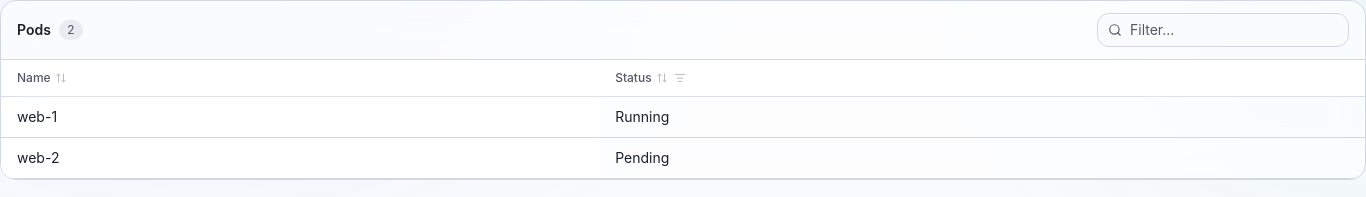
Test: DataTable › facet filter › toggling the same facet value off restores the row
Click the button titled "Filter column". click: (680, 78)
box: [672,70,688,86]
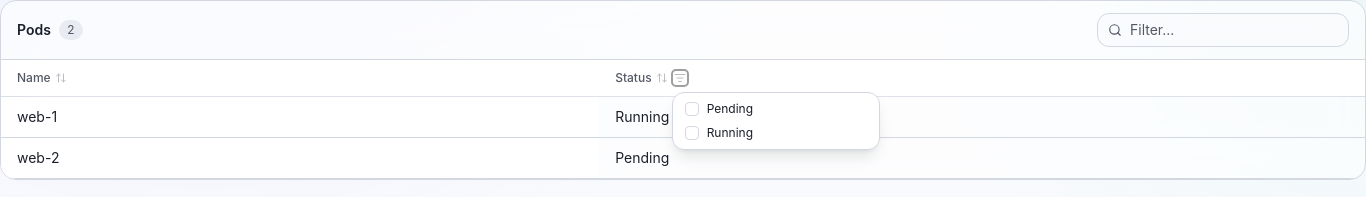
Click the button "Pending". click: (776, 109)
box: [677,97,875,121]
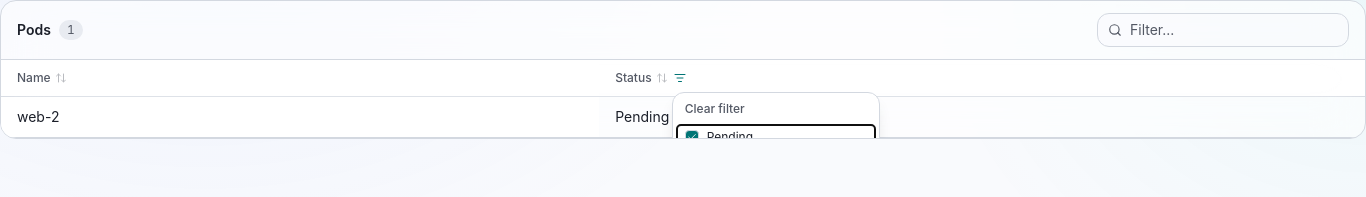
Expected: the text "web-1" is gone
Click the button "Pending". click: (776, 137)
box: [677,125,875,149]
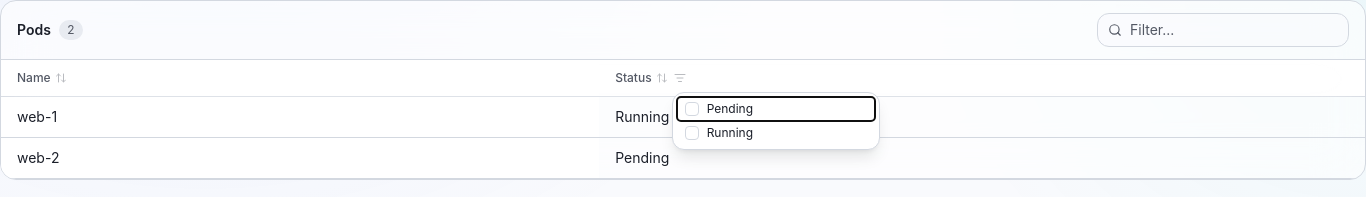
Expected: the text "web-1" is shown, [1,96,599,138]
